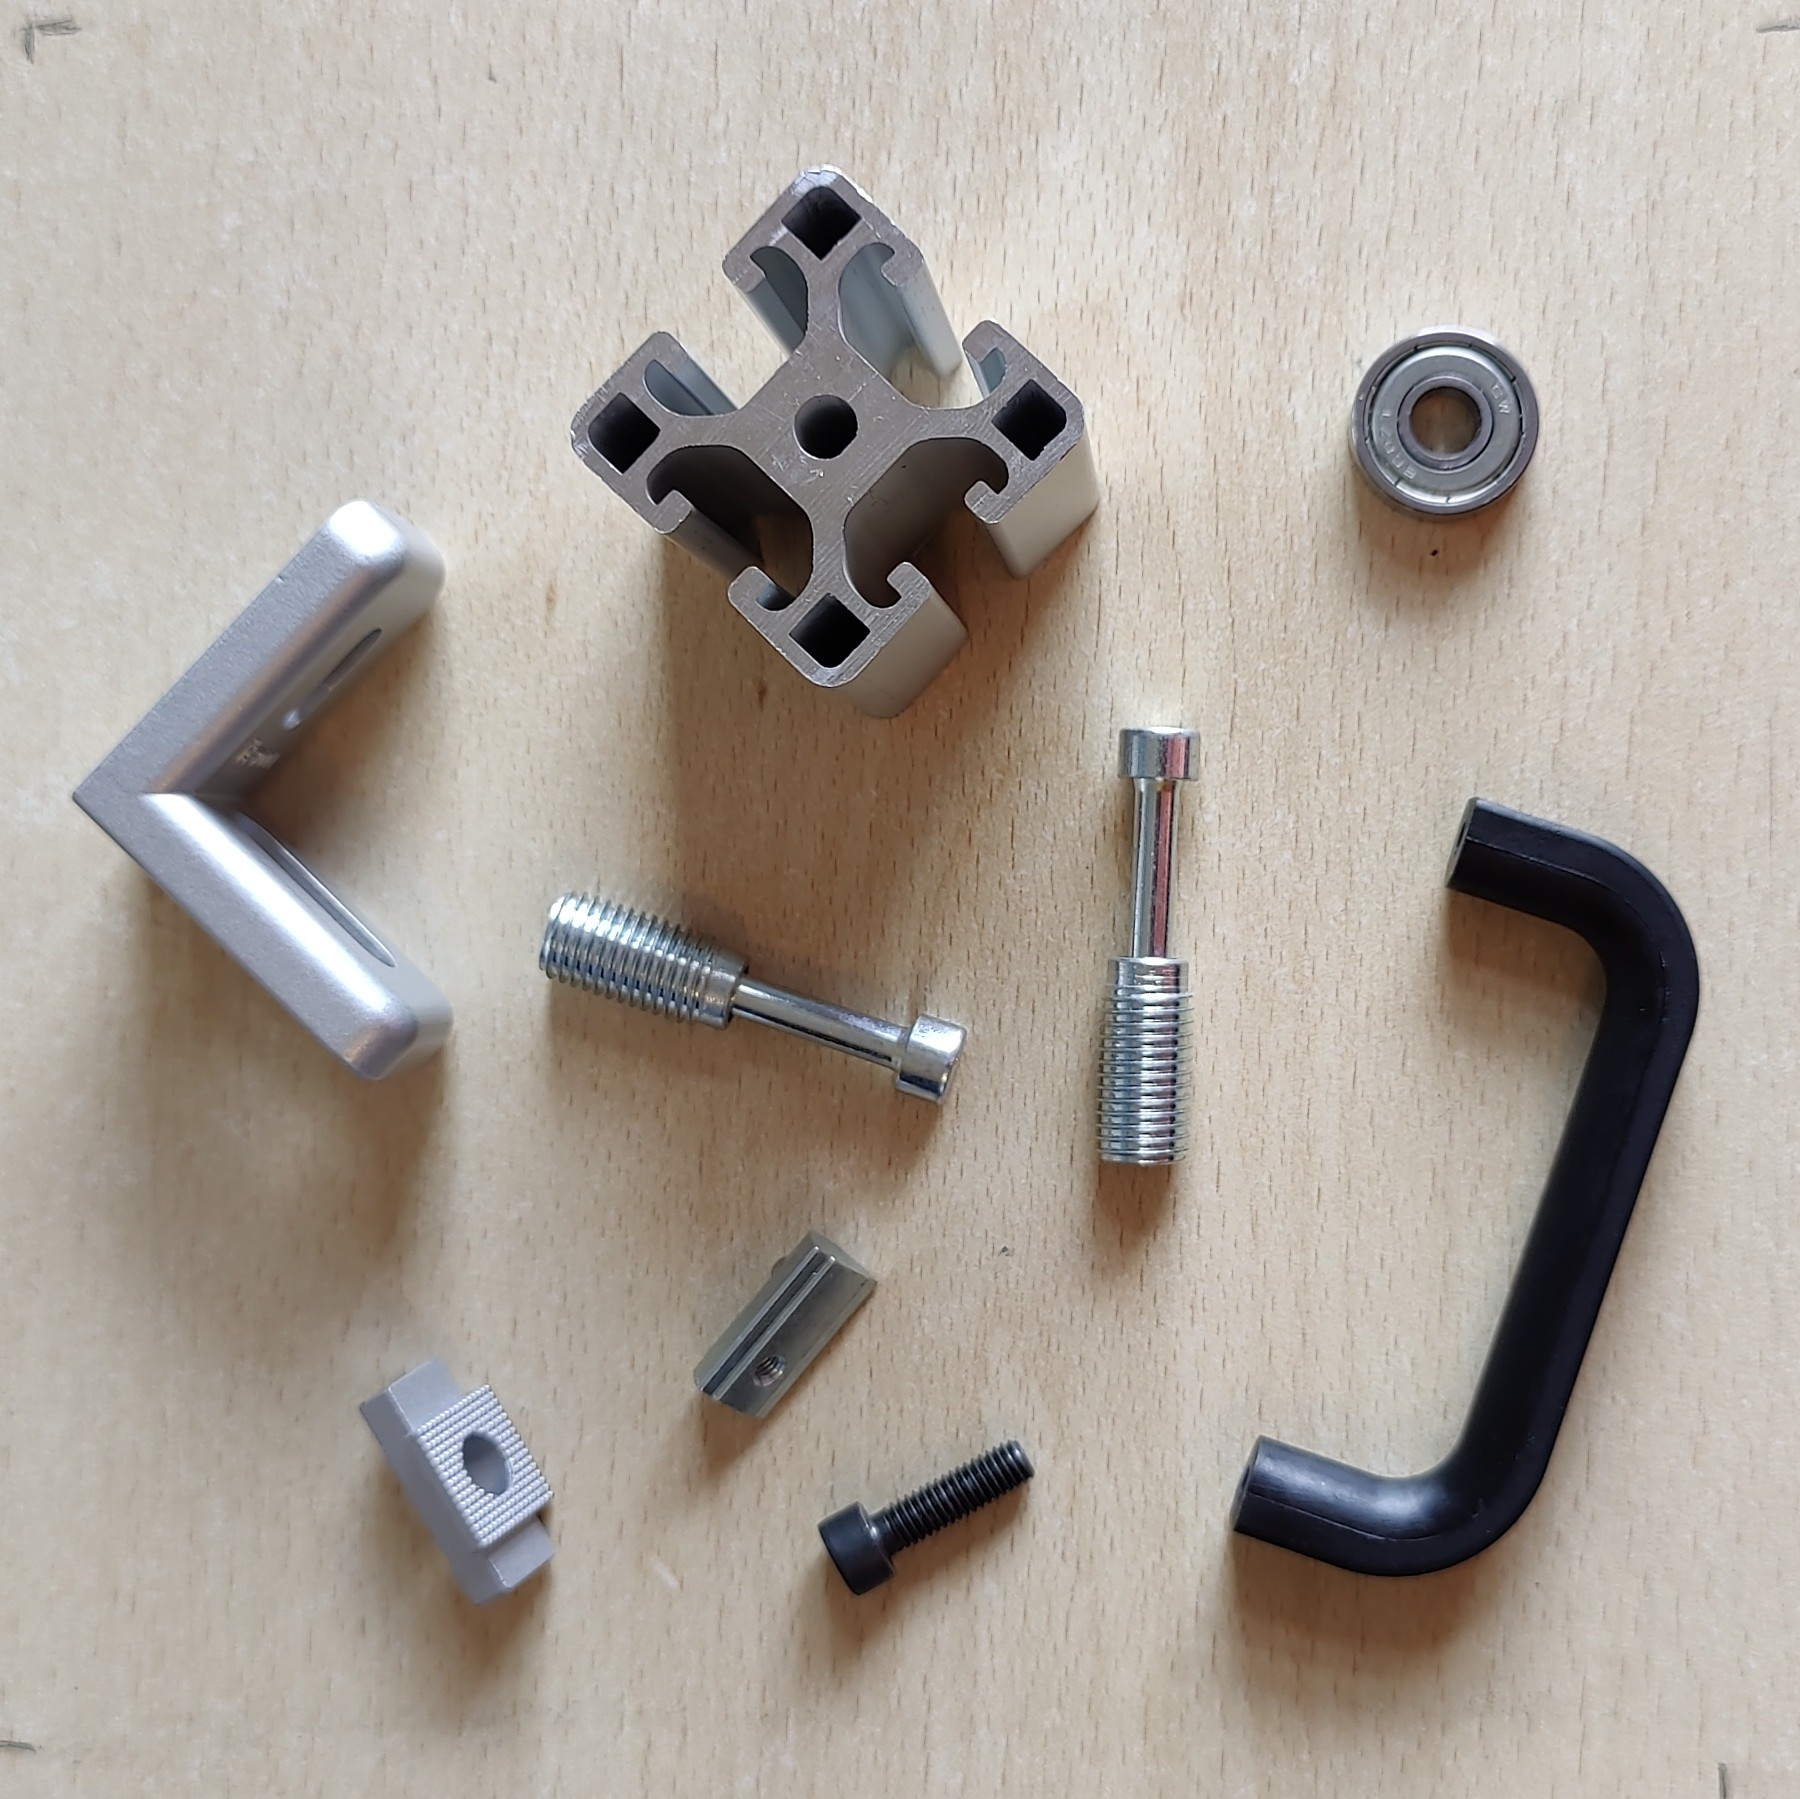Aluminium Extension: (567, 163, 1102, 722)
Ball Bearing: (1345, 325, 1540, 526)
Multiwinkel: (68, 494, 455, 1084)
Pull Handle: (1225, 792, 1701, 1582)
Shoulder Socket Head Cap Screw: (535, 888, 972, 1110), (1089, 722, 1205, 1170)
Socket Head Cap Screw: (815, 1432, 1036, 1600)
T Nut Square: (356, 1353, 565, 1611)
T Spring Nut: (692, 1226, 879, 1425)
